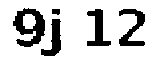1: (78, 4, 115, 51)
2: (118, 1, 153, 51)
9: (12, 5, 47, 47)
j: (47, 5, 69, 60)
